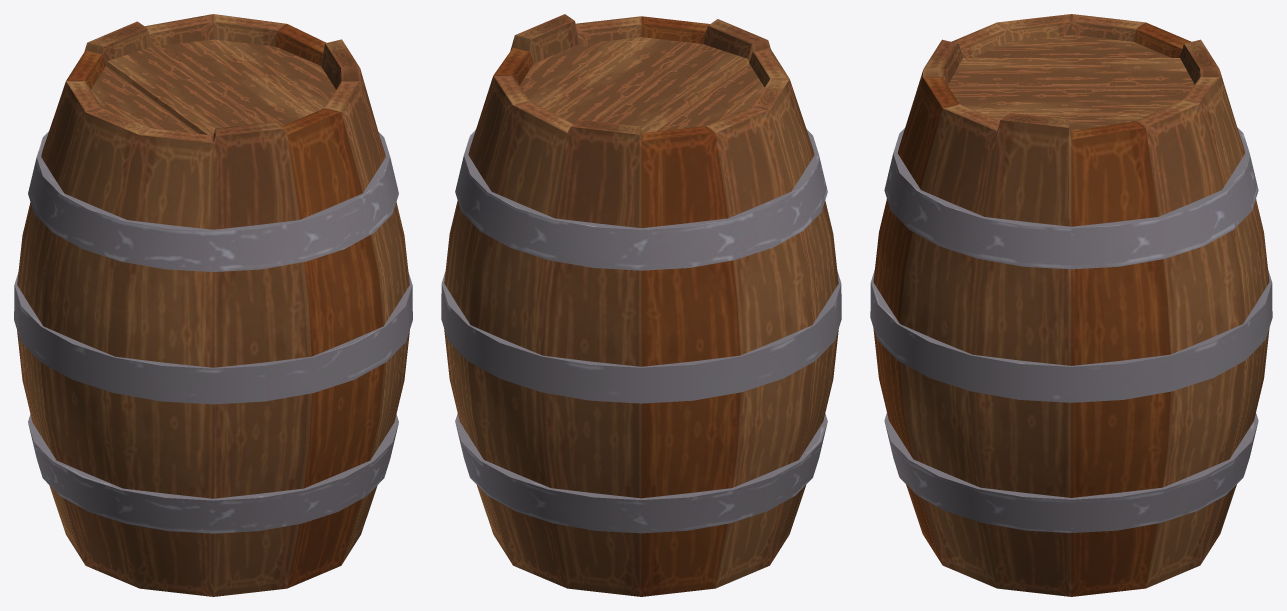
The model's file is bochka.glb.
3 renders of one model, left to right at view 1: azimuth 30°, elevation 25°; view 2: azimuth 150°, elevation 25°; view 3: azimuth 270°, elevation 25°, orthographic.
Parts seen in each view (by area): view 1: Barrel; view 2: Barrel; view 3: Barrel.
Part boxes in pixels (x1,y1,x2,y2): Barrel: (14, 14, 412, 596); Barrel: (441, 14, 841, 596); Barrel: (870, 14, 1272, 596).
Size of the model in its own units: 0.698 by 0.898 by 0.698.
Materials: 2 (2 with a texture image).
